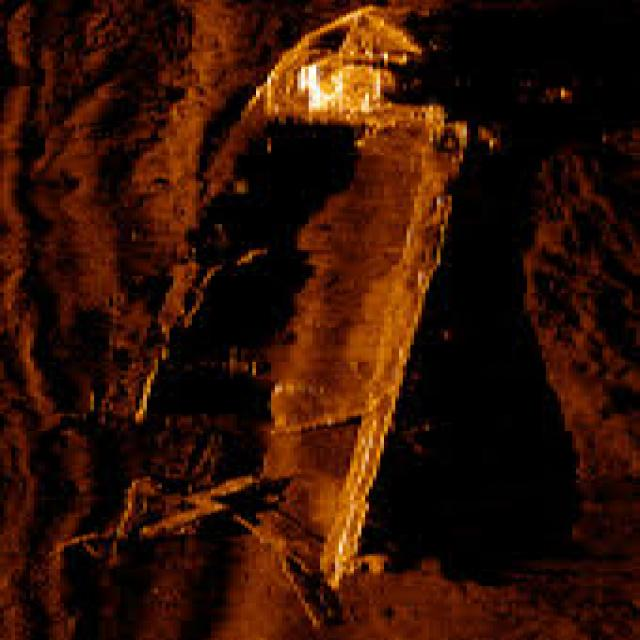ship: (166, 4, 463, 588)
